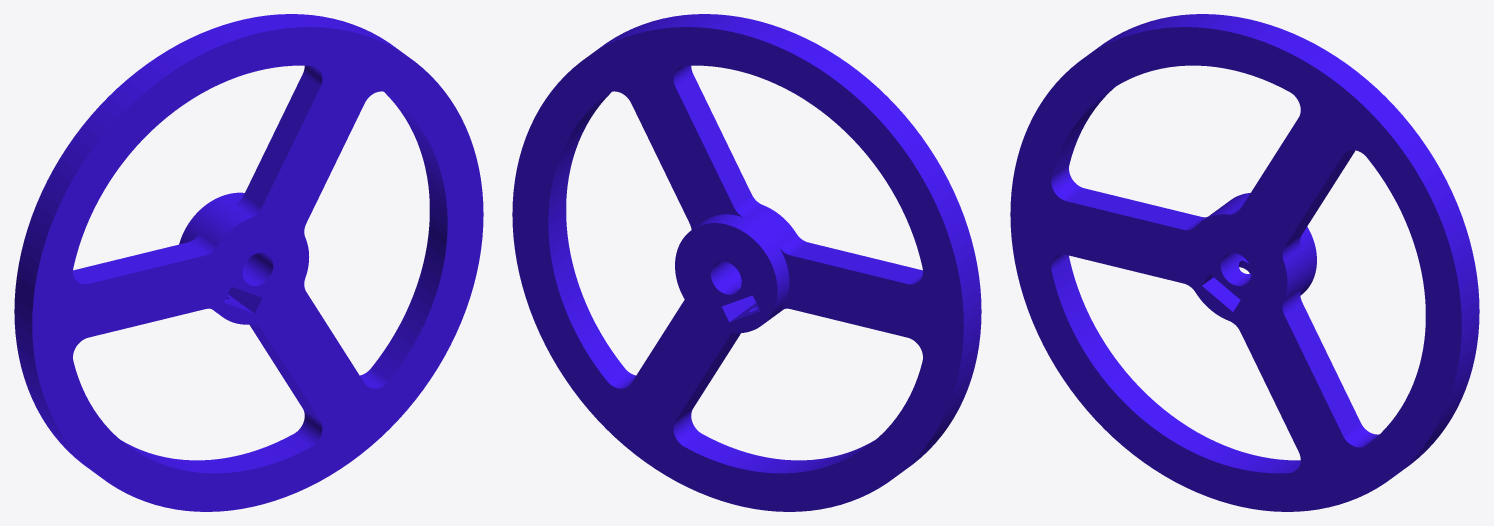
File: Robot_Wheel_Right.dae
The picture shows the model from 3 angles, left to right: view 1: azimuth 30°, elevation 25°; view 2: azimuth 150°, elevation 25°; view 3: azimuth 330°, elevation 25°; orthographic projection.
Visible parts, largest first — view 1: node0; view 2: node0; view 3: node0.
Boxes of the visible parts, left/top/right/bottom form: node0: left=14, top=14, right=483, bottom=511; node0: left=512, top=14, right=981, bottom=511; node0: left=1010, top=14, right=1479, bottom=511.
Bounding box in the file's own units: 0.088 × 0.01 × 0.088.
